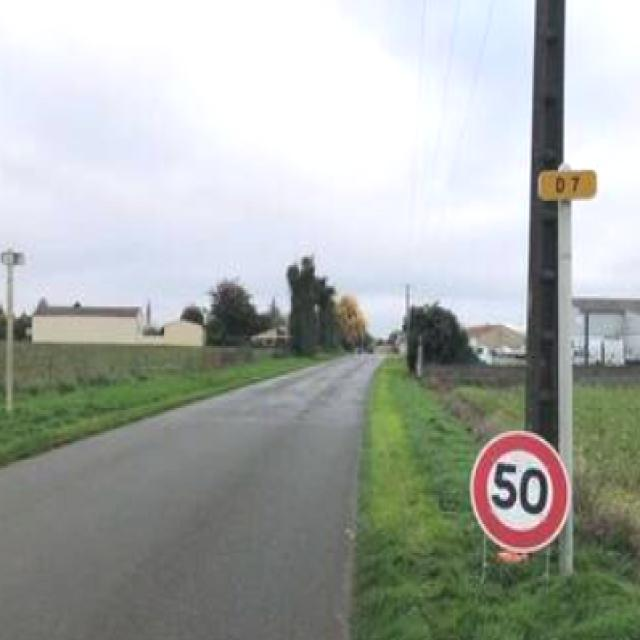speed_50: (472, 427, 572, 555)
